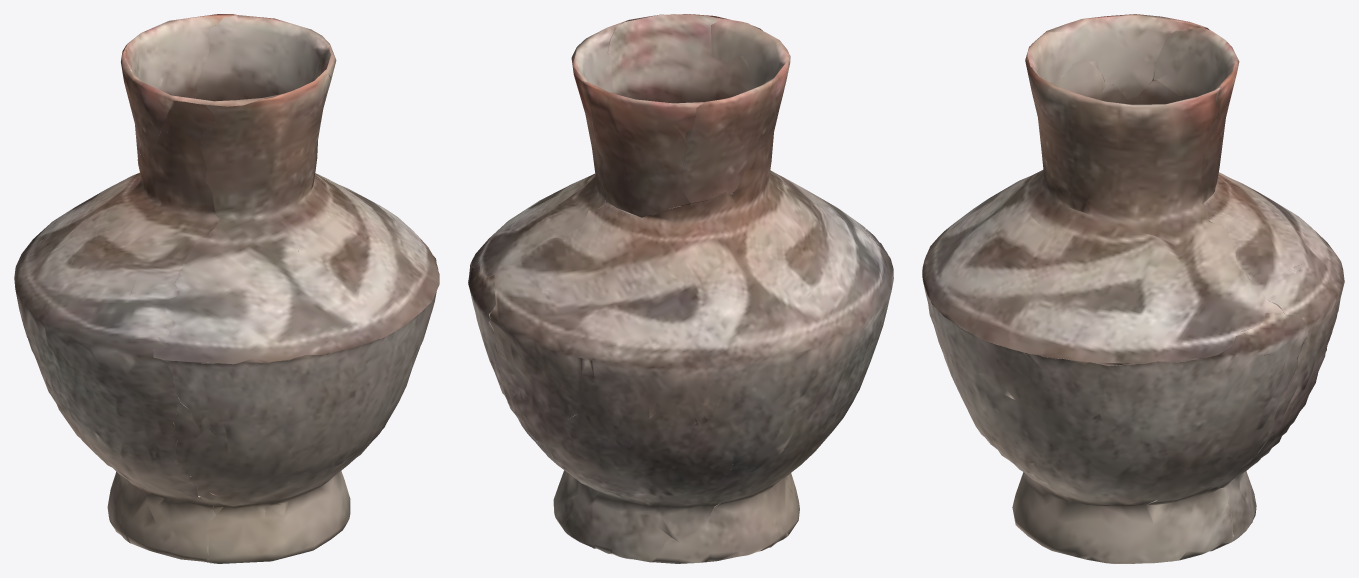
The model's file is obj_thai_jar_c_1000_bce.glb.
3 renders of one model, left to right at view 1: azimuth 30°, elevation 25°; view 2: azimuth 150°, elevation 25°; view 3: azimuth 270°, elevation 25°, orthographic.
Visible parts, largest first — view 1: Object_2; view 2: Object_2; view 3: Object_2.
Part boxes in pixels (x1,y1,x2,y2): Object_2: [14, 14, 439, 563]; Object_2: [468, 14, 893, 563]; Object_2: [922, 14, 1344, 563].
Bounding box in the file's own units: 0.2947 × 0.3504 × 0.2937.
Materials: 1 (1 with a texture image).
